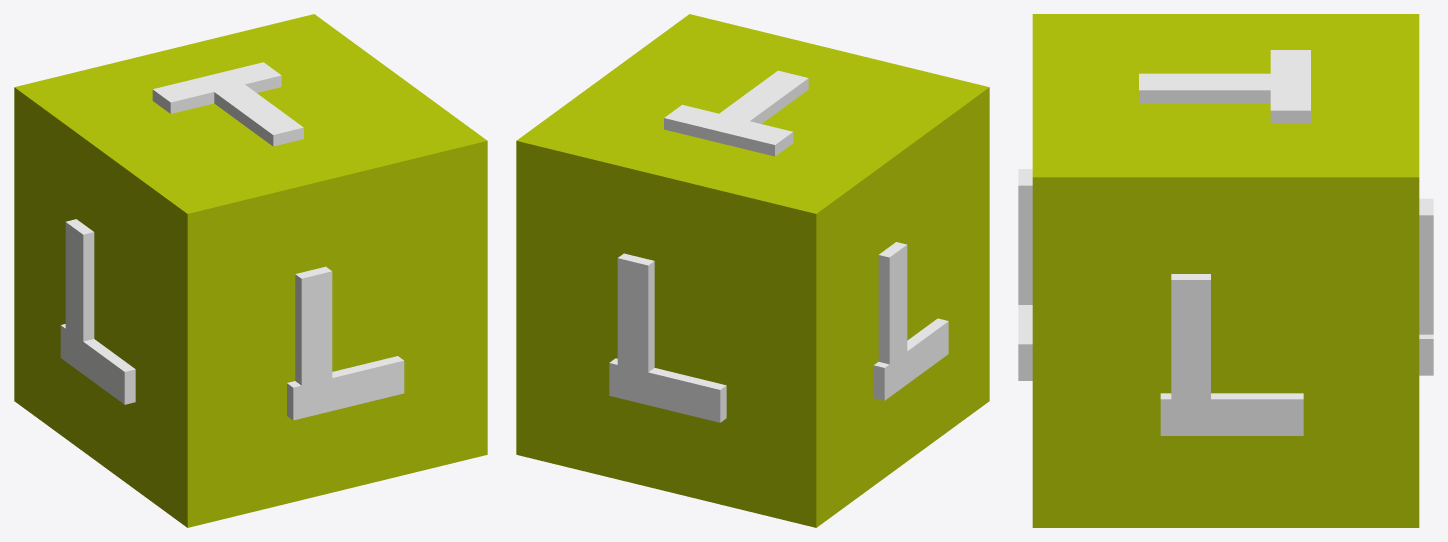
Rendered from TARGET_3.glb.
The picture shows the model from 3 angles, left to right: view 1: azimuth 30°, elevation 25°; view 2: azimuth 150°, elevation 25°; view 3: azimuth 270°, elevation 25°; orthographic projection. The views are drawn at different scales.
Parts seen in each view (by area): view 1: TARGET_HIGH_3; view 2: TARGET_HIGH_3; view 3: TARGET_HIGH_3.
Part boxes in pixels (left/top/right/bottom): TARGET_HIGH_3: left=14, top=14, right=487, bottom=527; TARGET_HIGH_3: left=516, top=14, right=989, bottom=527; TARGET_HIGH_3: left=1018, top=14, right=1433, bottom=527.
Bounding box in the file's own units: 2.15 × 2.15 × 2.15.
